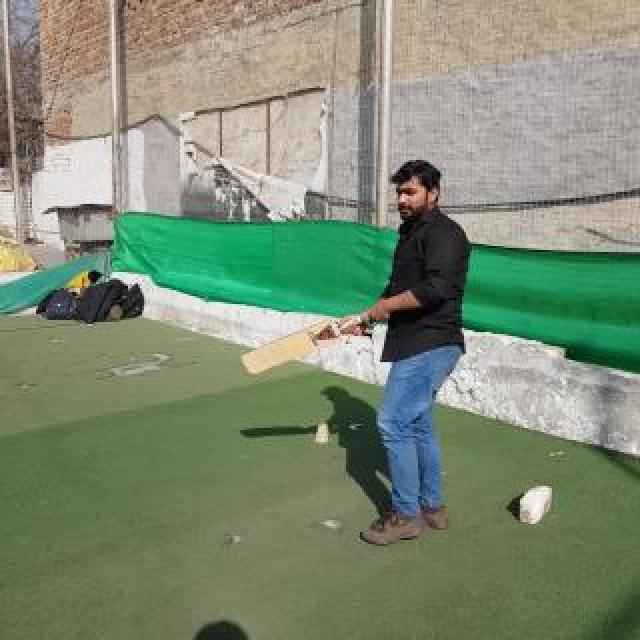bat: (241, 316, 367, 374)
